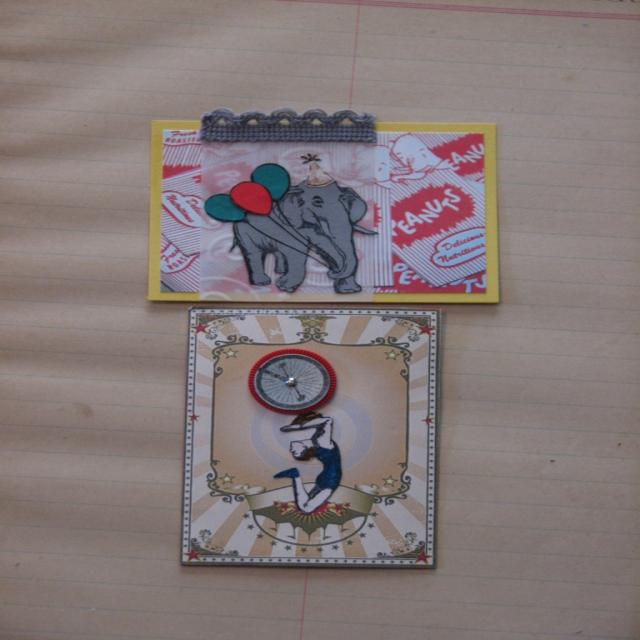elephant: (225, 182, 377, 296)
